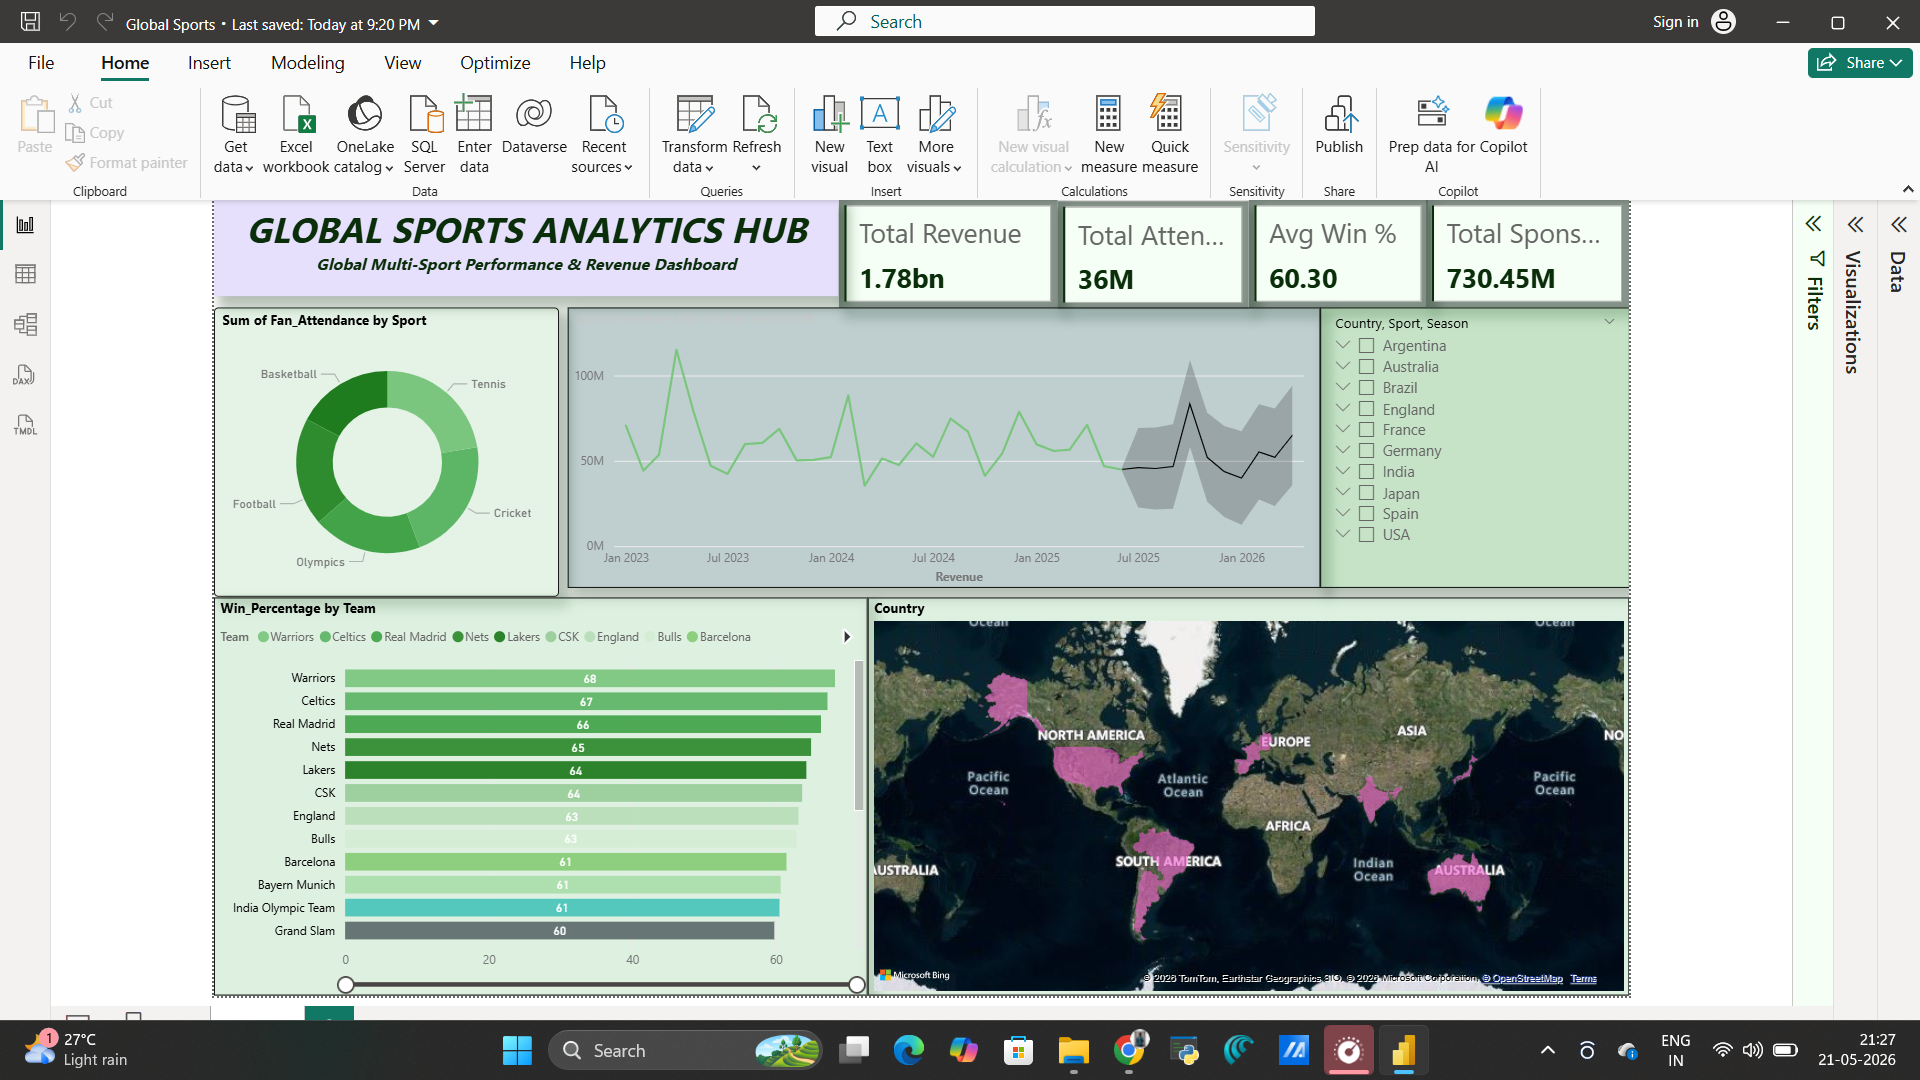

Layout of this report page (visuals, bound fields, positions):
{"tool":"powerbi","page":{"name":"Page 1","canvas":[1280,720],"ordinal":0},"visuals":[{"type":"cardVisual","fields":{"Data":["global_sports_analytics_dataset.Total Revenue"]},"box":[565.4,0,197.6,97.4],"z":1000},{"type":"cardVisual","fields":{"Data":["global_sports_analytics_dataset.Total Attendance"]},"box":[763,1.4,172.9,97.4],"z":2000},{"type":"cardVisual","fields":{"Data":["global_sports_analytics_dataset.Avg Win %"]},"box":[935.9,0,161.9,97.4],"z":3000},{"type":"cardVisual","fields":{"Data":["global_sports_analytics_dataset.Total Sponsorship"]},"box":[1097.1,0,182.9,97.1],"z":4000},{"type":"lineChart","fields":{"Category":["global_sports_analytics_dataset.Date.Variation.Date Hierarchy.Year","global_sports_analytics_dataset.Date.Variation.Date Hierarchy.Month"],"Y":["Sum(global_sports_analytics_dataset.Revenue_USD)"]},"box":[319.7,97.4,680.6,253.9],"z":5000},{"type":"donutChart","fields":{"Category":["global_sports_analytics_dataset.Sport"],"Y":["Sum(global_sports_analytics_dataset.Fan_Attendance)"]},"box":[0,97.7,311.6,261.6],"z":6000},{"type":"barChart","title":"Win_Percentage by Team","fields":{"Category":["global_sports_analytics_dataset.Team"],"Y":["Avg(global_sports_analytics_dataset.Win_Percentage)"],"Series":["global_sports_analytics_dataset.Team"]},"box":[0,360,591.4,360],"z":7000},{"type":"slicer","fields":{"Values":["global_sports_analytics_dataset.Country","global_sports_analytics_dataset.Sport","global_sports_analytics_dataset.Season"]},"box":[1000.3,97.4,279.9,253.9],"z":8000},{"type":"filledMap","fields":{"Category":["global_sports_analytics_dataset.Country"]},"box":[591.4,360,688.6,360],"z":9000},{"type":"textbox","box":[0,0,565.1,87.2],"z":10000}]}

Visuals, with their boxes on the page's 1280x720 design canvas (x1, y1, x2, y2). These are canvas units, not pixel positions in the 1920x1080 screenshot, which may show the page scaled, cropped or inside an application window:
cardVisual - global_sports_analytics_dataset.Total Revenue: bbox(565, 0, 763, 97)
cardVisual - global_sports_analytics_dataset.Total Attendance: bbox(763, 1, 936, 99)
cardVisual - global_sports_analytics_dataset.Avg Win %: bbox(936, 0, 1098, 97)
cardVisual - global_sports_analytics_dataset.Total Sponsorship: bbox(1097, 0, 1280, 97)
lineChart - global_sports_analytics_dataset.Date.Variation.Date Hierarchy.Year x global_sports_analytics_dataset.Date.Variation.Date Hierarchy.Month: bbox(320, 97, 1000, 351)
donutChart - global_sports_analytics_dataset.Sport x Sum(global_sports_analytics_dataset.Fan_Attendance): bbox(0, 98, 312, 359)
"Win_Percentage by Team" barChart: bbox(0, 360, 591, 720)
slicer - global_sports_analytics_dataset.Country x global_sports_analytics_dataset.Sport: bbox(1000, 97, 1280, 351)
filledMap - global_sports_analytics_dataset.Country: bbox(591, 360, 1280, 720)
textbox: bbox(0, 0, 565, 87)
